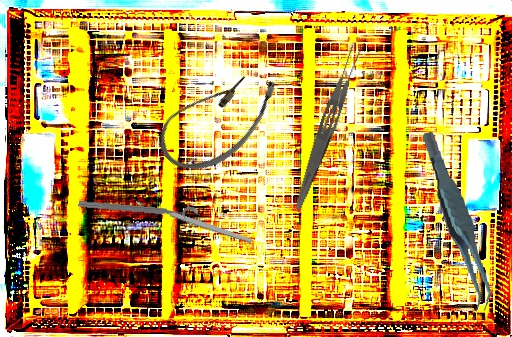Cannula: (147, 47, 290, 190)
Dressing Forceps: (291, 42, 365, 214)
Fixation Ring: (77, 196, 199, 228)
Surgical Spoon: (135, 198, 253, 245)
Tissue Forceps: (421, 127, 494, 316)
